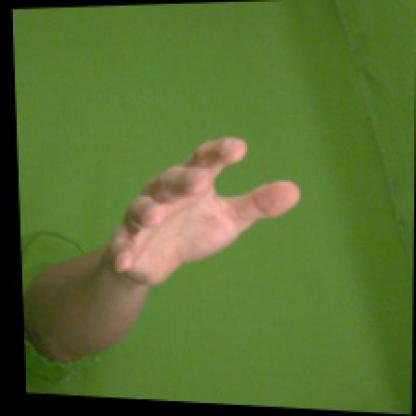Hand: (106, 135, 302, 288)
